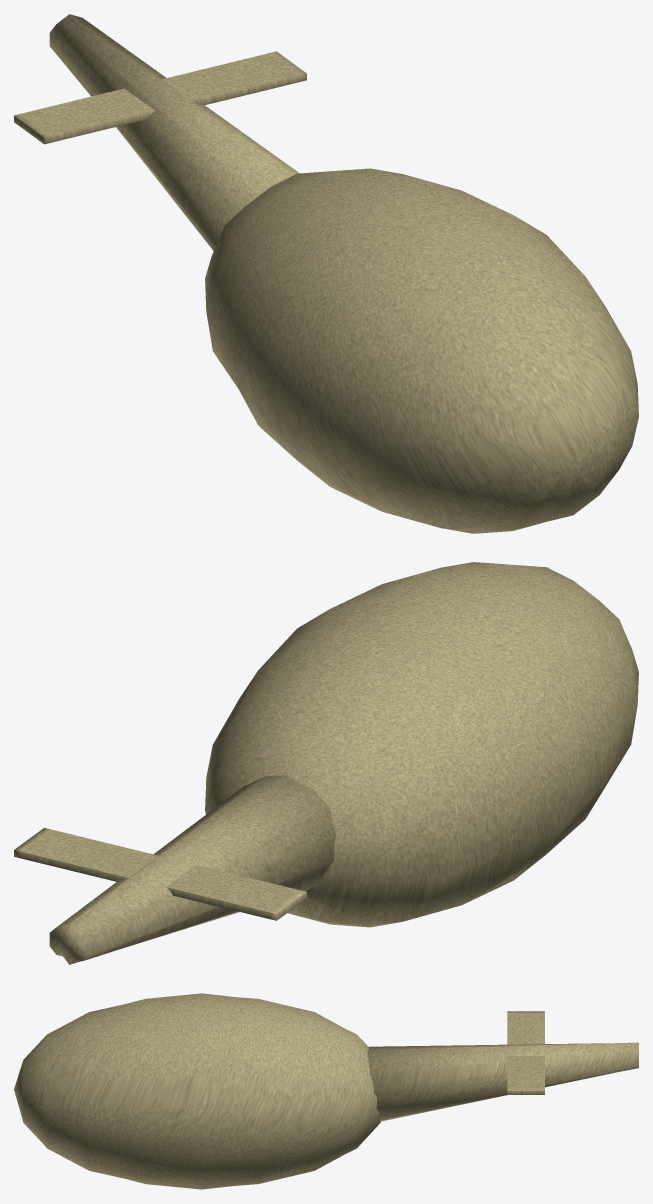
The picture shows the model from 3 angles, top to bottom: view 1: azimuth 30°, elevation 25°; view 2: azimuth 150°, elevation 25°; view 3: azimuth 270°, elevation 25°; orthographic projection. The views are drawn at different scales.
Size of the model in its own units: 2.3 by 2.05 by 6.65.
Materials: 1 (1 with a texture image).
